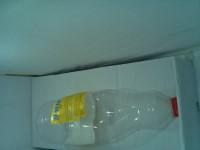bottle: (17, 88, 179, 146)
